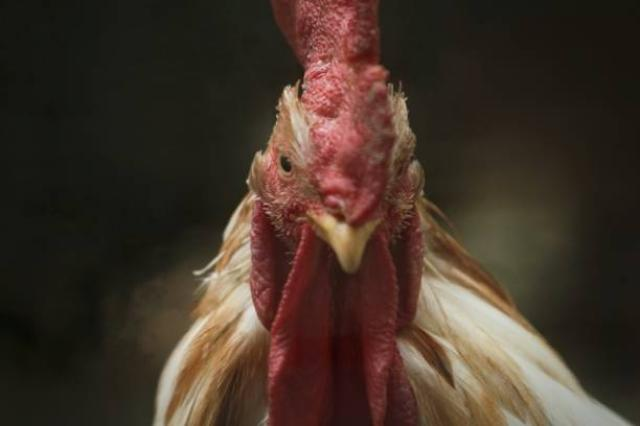Chicken: (153, 0, 634, 426)
